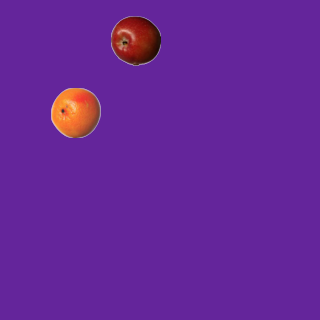Apple Braeburn: (110, 15, 160, 65)
Grapefruit Pink: (50, 87, 100, 137)
